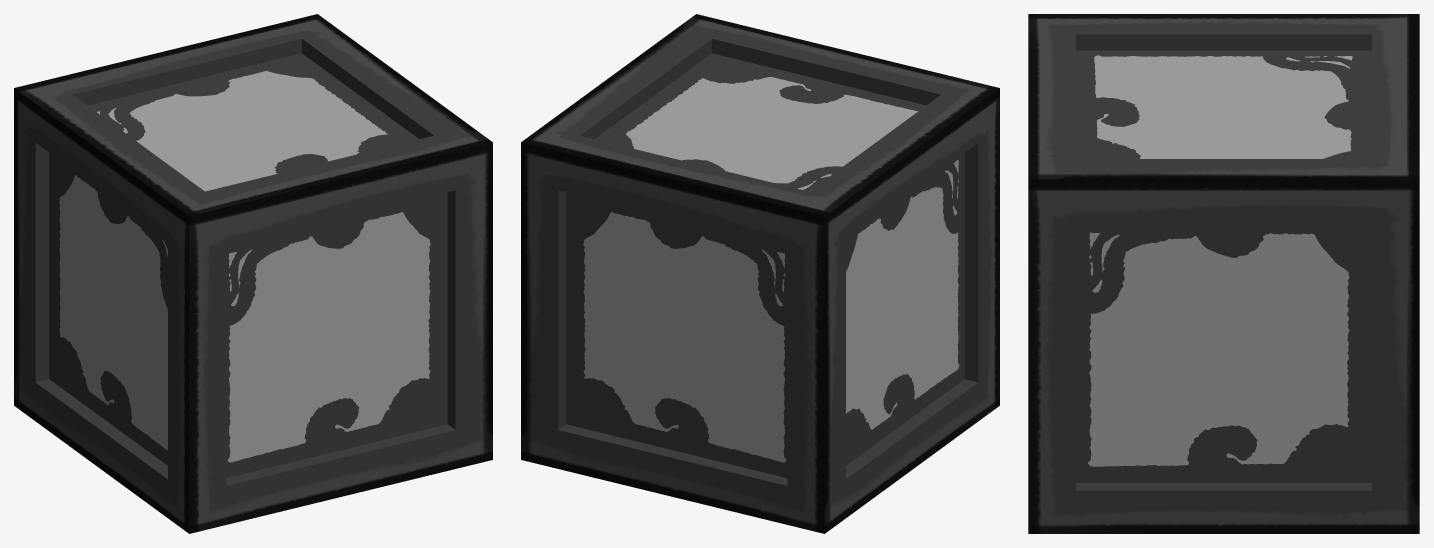
Rendered from LightCube.fbx.
3 renders of one model, left to right at view 1: azimuth 30°, elevation 25°; view 2: azimuth 150°, elevation 25°; view 3: azimuth 270°, elevation 25°, orthographic. The views are drawn at different scales.
Parts seen in each view (by area): view 1: Frame, Light; view 2: Frame, Light; view 3: Frame, Light.
Boxes of the visible parts, left/top/right/bottom form: Frame: left=14, top=14, right=492, bottom=533; Light: left=59, top=71, right=430, bottom=462; Frame: left=521, top=14, right=999, bottom=533; Light: left=583, top=77, right=959, bottom=462; Frame: left=1028, top=14, right=1419, bottom=533; Light: left=1088, top=55, right=1352, bottom=466.
Bounding box in the file's own units: 1 × 1 × 1.
Materials: 2 (1 with a texture image).
